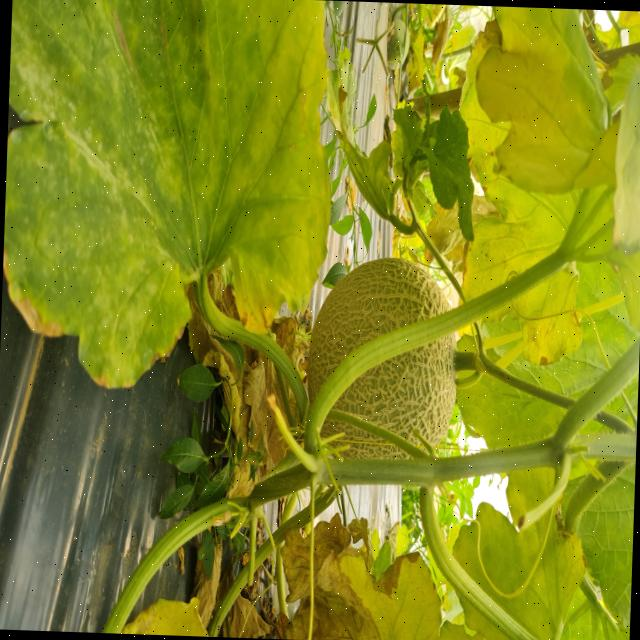melon: (306, 258, 448, 400), (333, 333, 455, 446), (321, 420, 403, 459)
